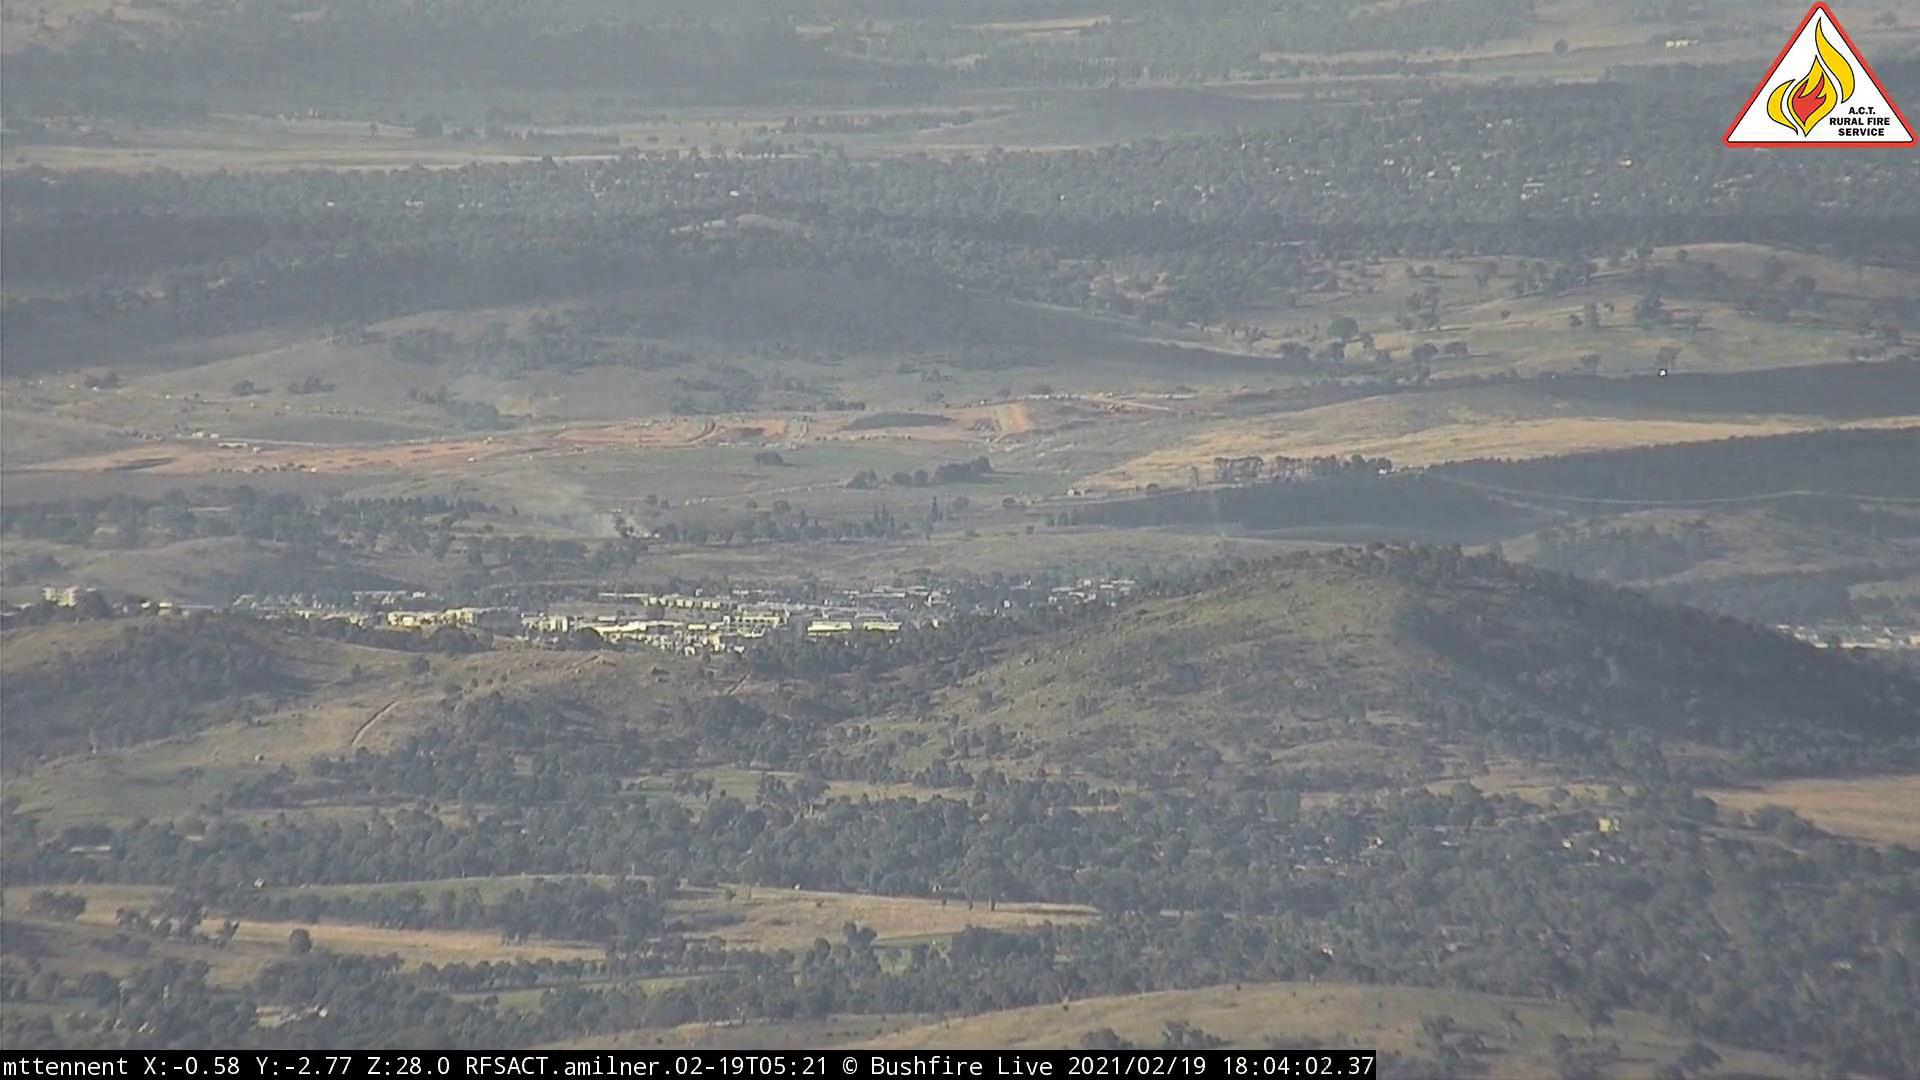Smoke: (516, 468, 674, 551)
